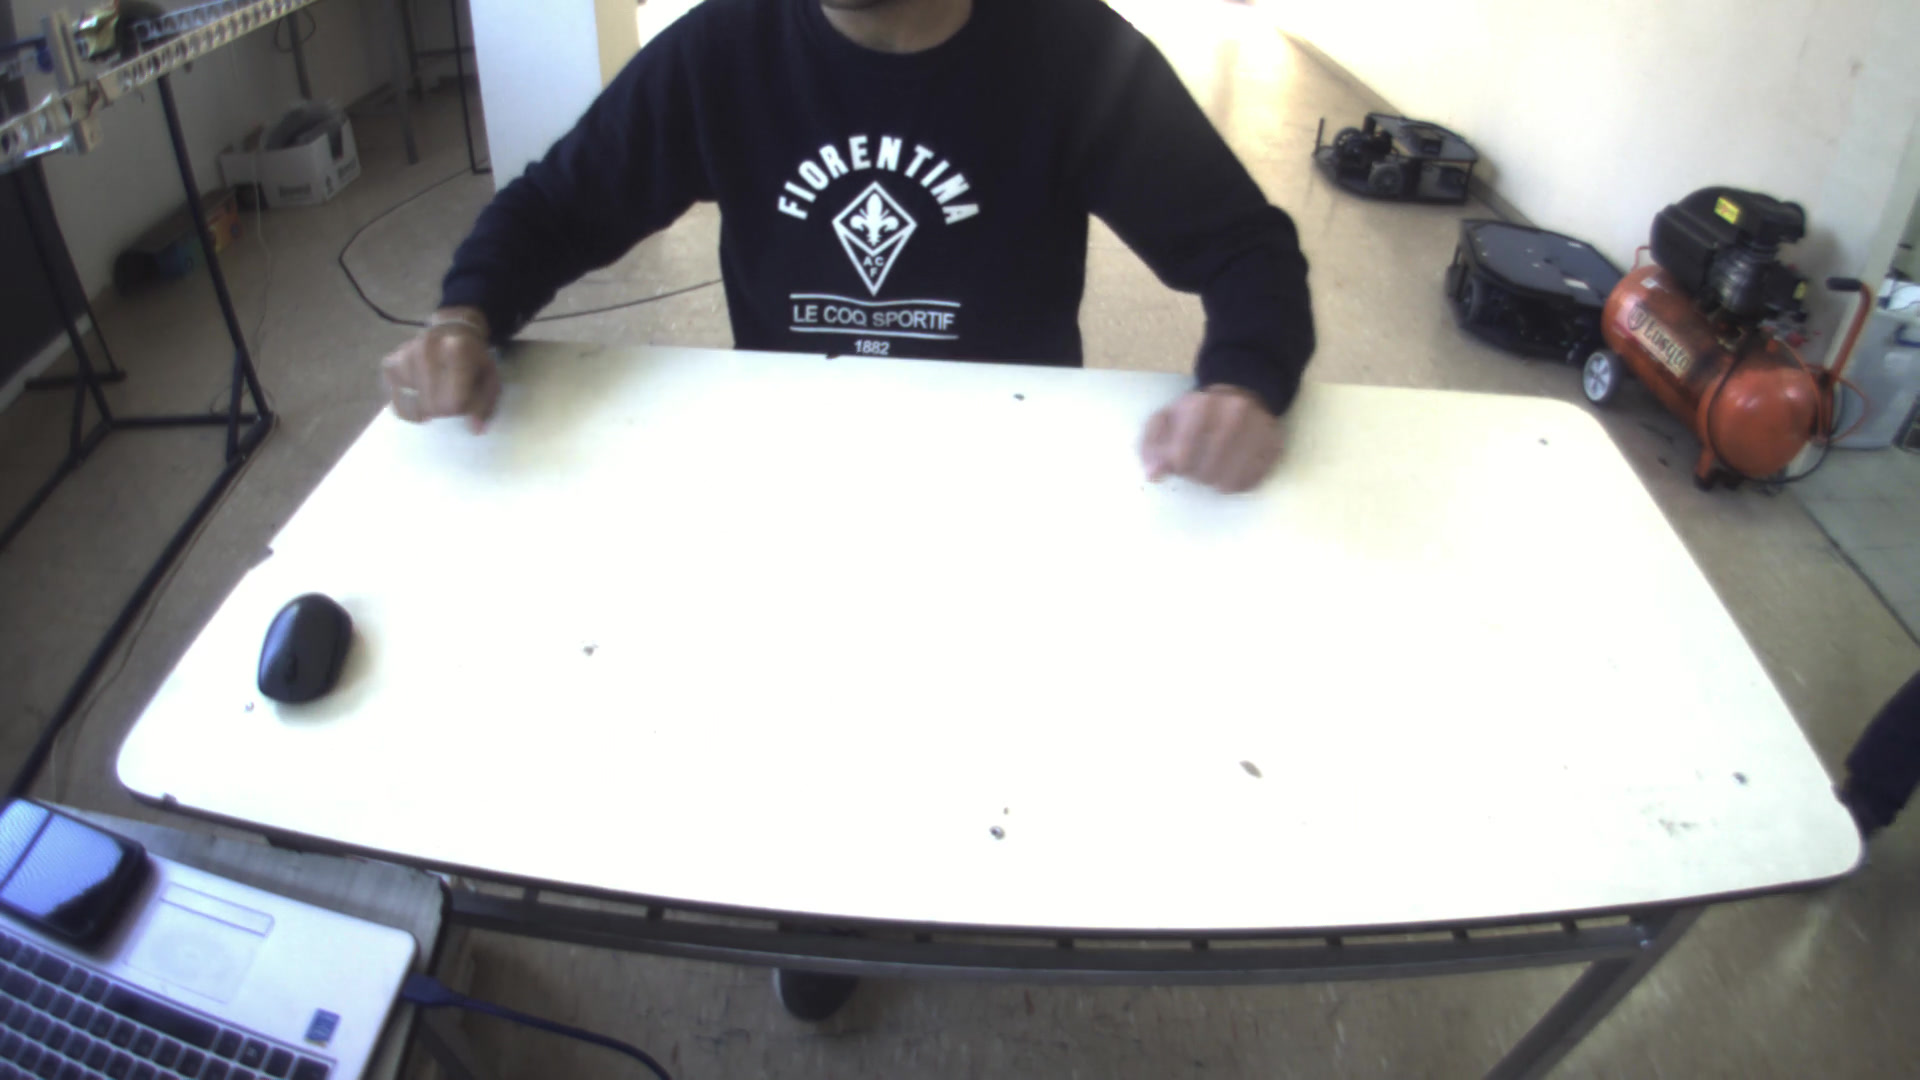hand: (1131, 371, 1294, 495), (369, 305, 510, 426)
